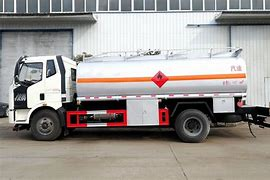oil truck: (3, 40, 252, 148)
